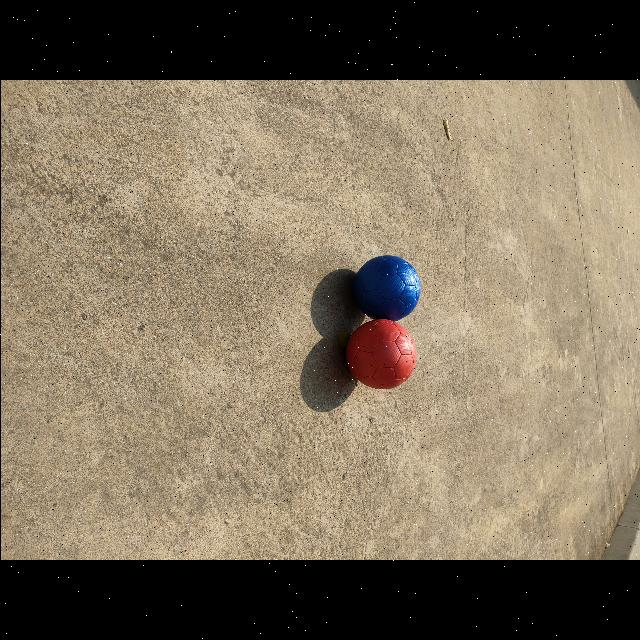B: (352, 255, 420, 320)
R: (344, 319, 415, 389)
